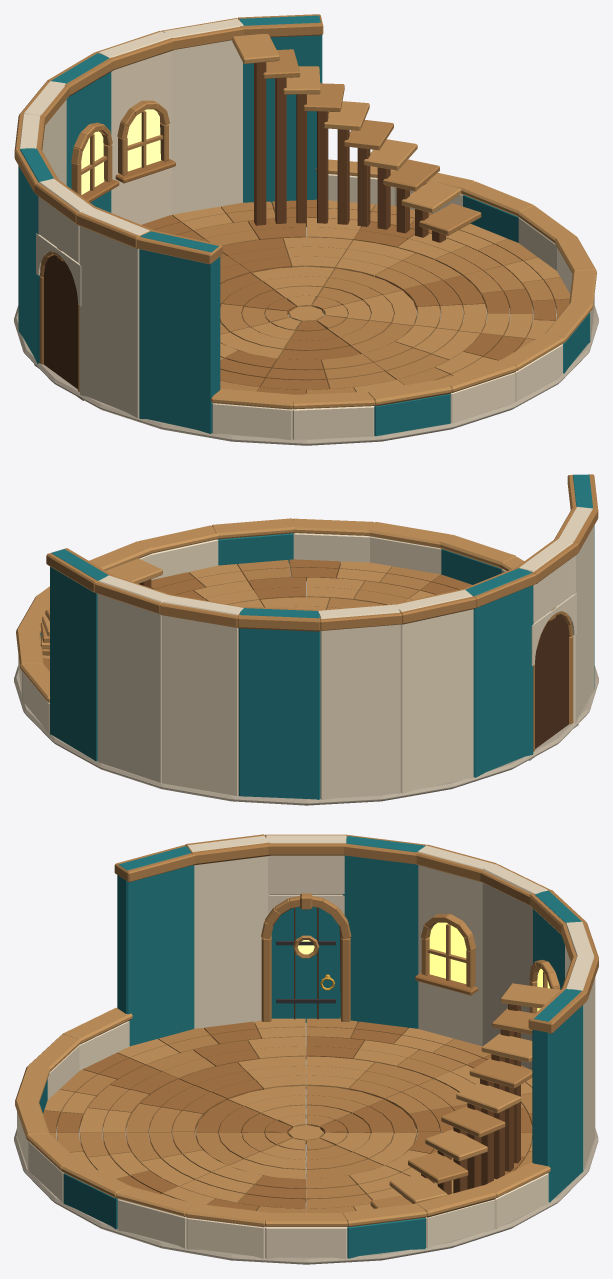
Rendered from lighthouse_loft_t2_interior.glb.
3 views of the same model, one above another, from view 1: azimuth 30°, elevation 25°; view 2: azimuth 150°, elevation 25°; view 3: azimuth 270°, elevation 25° (orthographic).
Visible parts, largest first — view 1: lighthouse_loft_t2_interior; view 2: lighthouse_loft_t2_interior; view 3: lighthouse_loft_t2_interior, part_door_leaf.
Boxes of the visible parts, x1=… form: lighthouse_loft_t2_interior: x1=14, y1=14, x2=598, y2=445; lighthouse_loft_t2_interior: x1=14, y1=474, x2=598, y2=805; lighthouse_loft_t2_interior: x1=14, y1=834, x2=598, y2=1264; part_door_leaf: x1=271, y1=906, x2=340, y2=1022.
Bounding box in the file's own units: 6.57 × 2.32 × 6.58.
